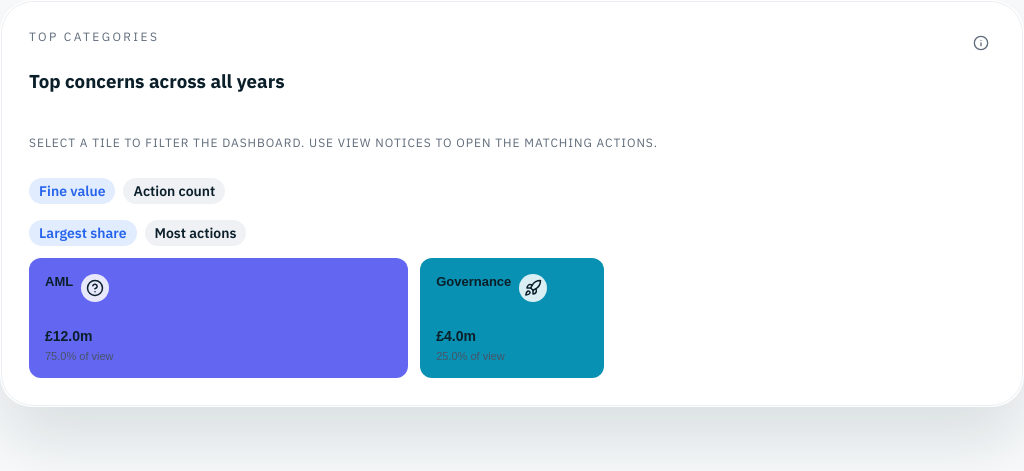
Test case: CategoryTreemap › switches the visible metric to action count
Click the button "Action count".
click(174, 191)  # box [124,178,225,204]
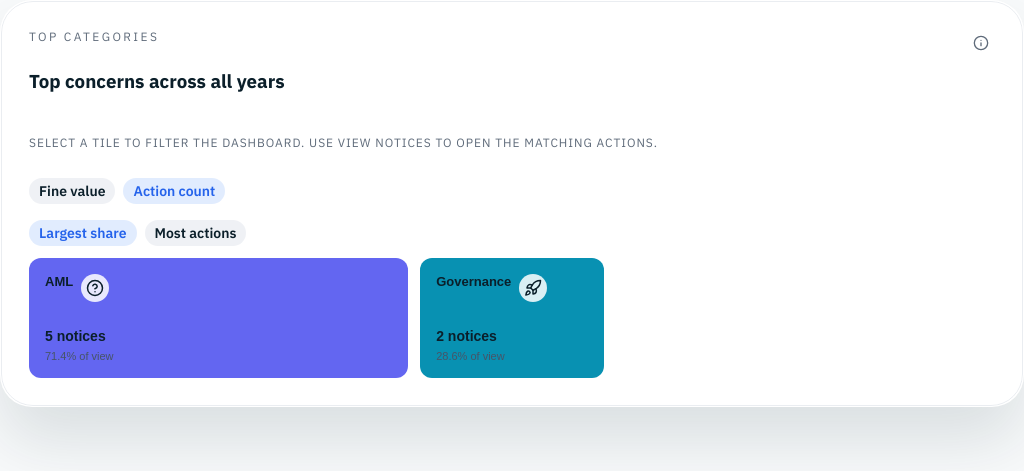
Expected: the text "5 notices" is shown, [45,328,106,344]
Expected: the text "2 notices" is shown, [436,328,497,344]
